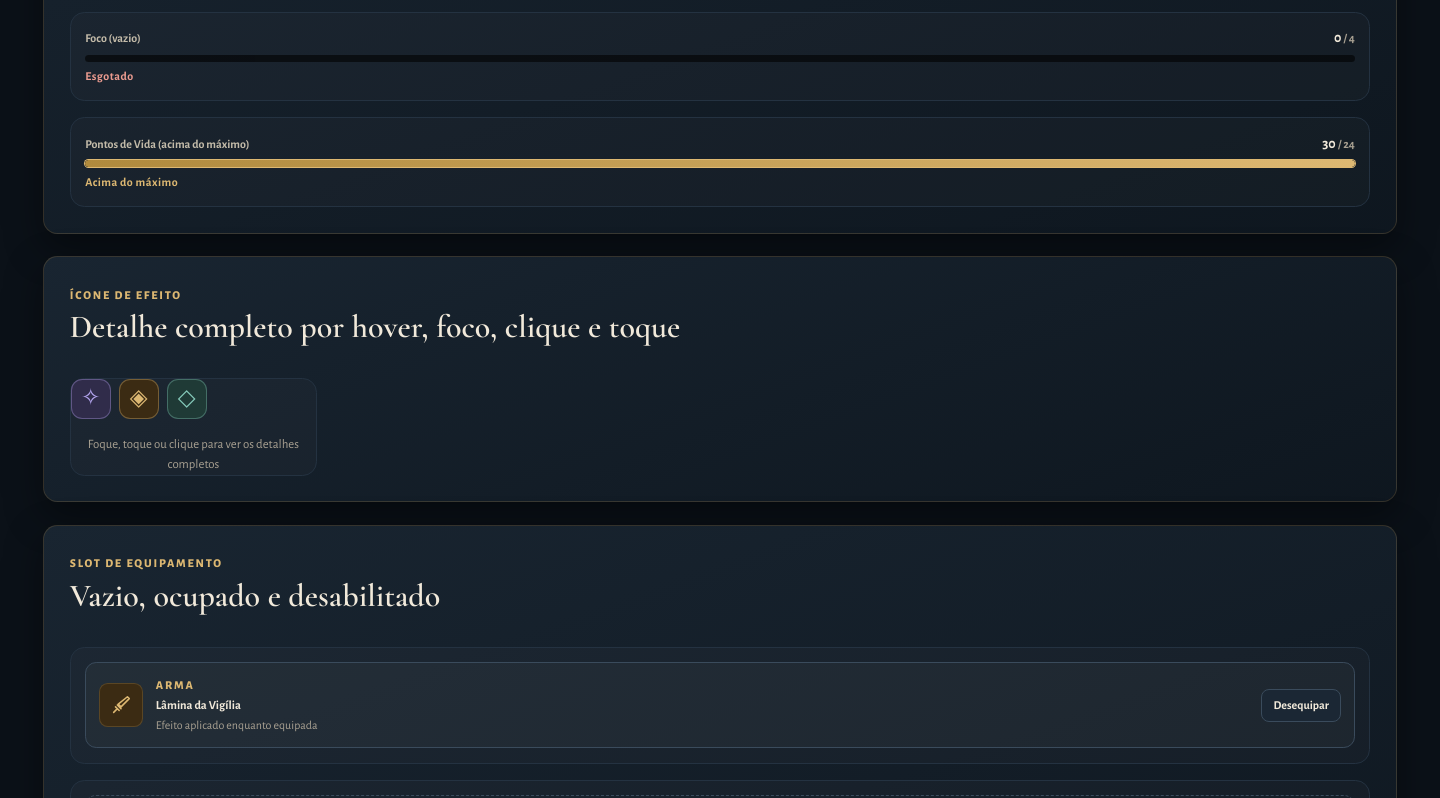
Test: catálogo visual isolado de componentes › mostra o ícone de efeito com detalhe completo por clique
(page scrolled)
Step 1. Click the button named "Véu Protetor" → (91, 399), box [71,379,111,419]
(page scrolled)
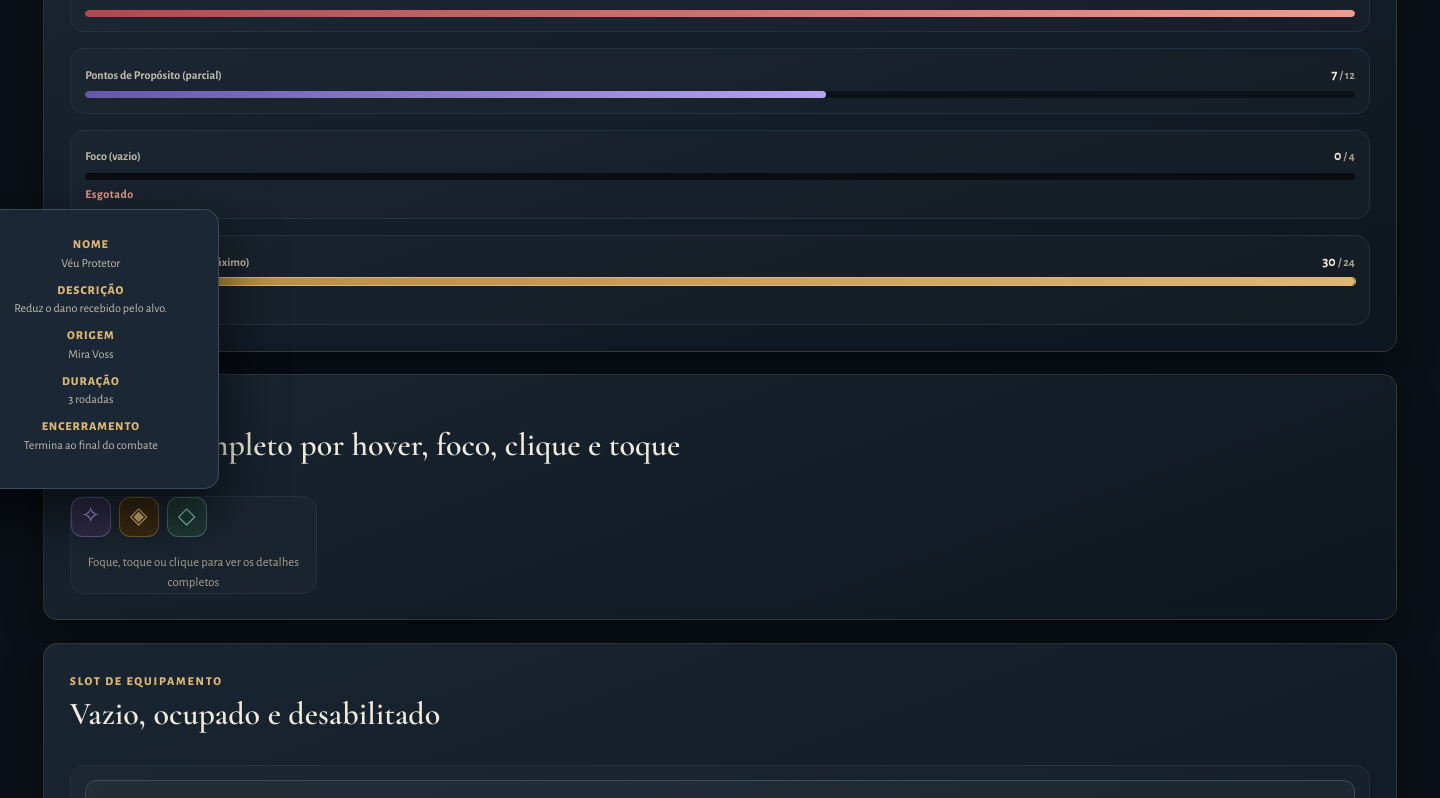
Expected: the text "Mira Voss" is shown, [68,348,114,360]
Expected: the text "3 rodadas" is shown, [68,393,113,405]
